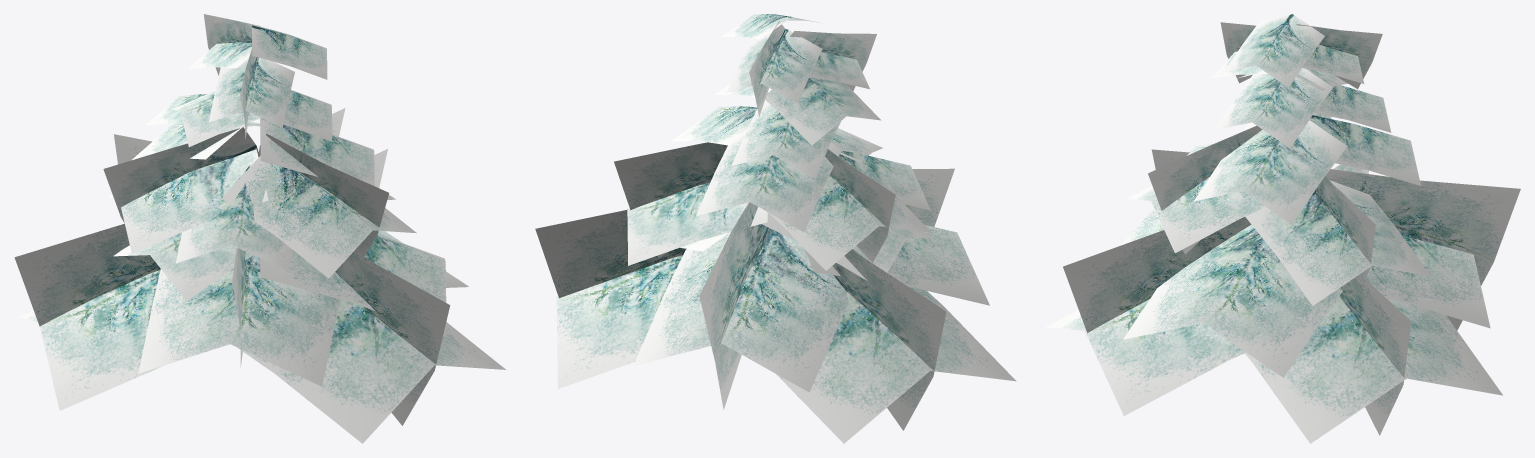
The model's file is tree05.obj.
The picture shows the model from 3 angles, left to right: view 1: azimuth 30°, elevation 25°; view 2: azimuth 150°, elevation 25°; view 3: azimuth 270°, elevation 25°; orthographic projection.
Parts seen in each view (by area): view 1: tree05; view 2: tree05; view 3: tree05.
Part boxes in pixels (x1=…): tree05: x1=14, y1=14, x2=505, y2=443; tree05: x1=535, y1=14, x2=1016, y2=443; tree05: x1=1045, y1=14, x2=1520, y2=443.
Bounding box in the file's own units: 234 × 183 × 224.
